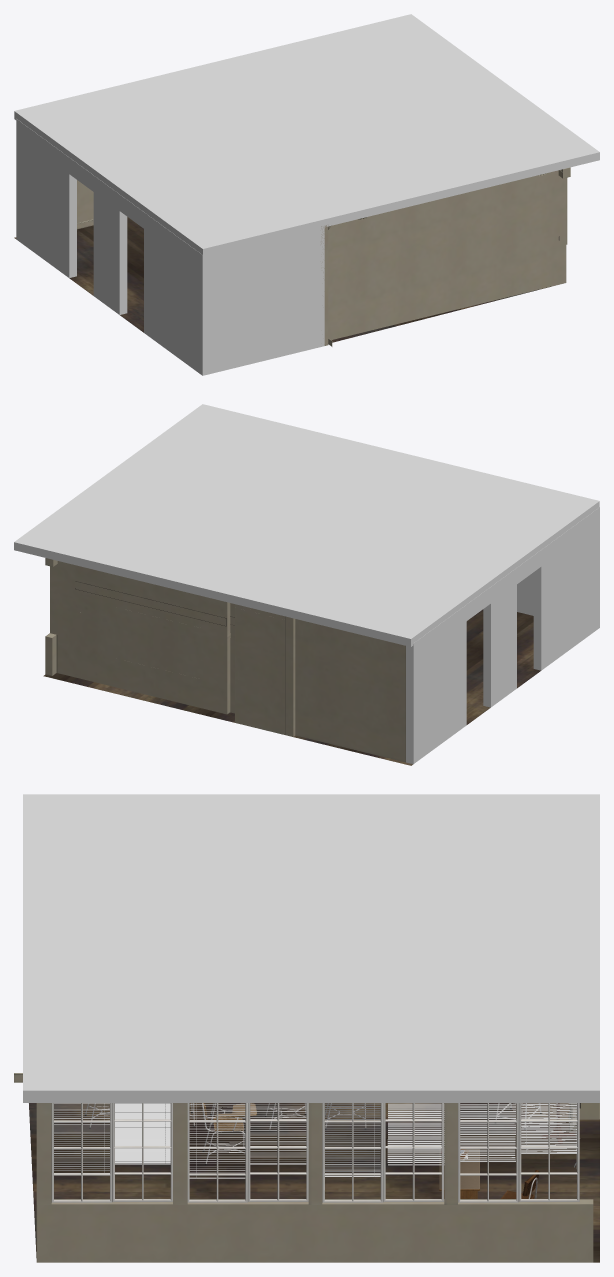
The model's file is room.glb.
The picture shows the model from 3 angles, top to bottom: view 1: azimuth 30°, elevation 25°; view 2: azimuth 150°, elevation 25°; view 3: azimuth 270°, elevation 25°; orthographic projection. The views are drawn at different scales.
Parts seen in each view (by area): view 1: ceiling__ceiling, wall.010__wall.010, wall.009__wall.009, wall.005__wall.005, sol__sol, wall__wall, wall.006__wall.006; view 2: ceiling__ceiling, wall.008__wall.008, wall.009__wall.009, wall.006__wall.006, sol__sol, wall__wall, wall.005__wall.005, wall.007__wall.007; view 3: ceiling__ceiling, sol__sol, wall.007__wall.007, Cube.017__Cube.017, Cube.005__Cube.005, Cube.008__Cube.008, Cube.002__Cube.002, Cube.021__Cube.021, Cube.020__Cube.020, Cube.011__Cube.011, Cube.014__Cube.014, wall.004__wall.004 (+12 smaller).
Part boxes in pixels (x1,y1,x2,y2): ceiling__ceiling: (14, 14, 599, 256); wall.010__wall.010: (328, 170, 566, 340); wall.009__wall.009: (16, 119, 210, 375); wall.005__wall.005: (210, 225, 324, 373); sol__sol: (14, 217, 551, 342); wall__wall: (321, 225, 328, 345); wall.006__wall.006: (77, 180, 93, 222); ceiling__ceiling: (14, 404, 599, 646); wall.008__wall.008: (50, 561, 285, 734); wall.009__wall.009: (406, 507, 599, 764); wall.006__wall.006: (295, 619, 405, 762); sol__sol: (43, 609, 540, 765); wall__wall: (285, 616, 295, 736); wall.005__wall.005: (517, 572, 533, 615); wall.007__wall.007: (45, 633, 56, 675); ceiling__ceiling: (23, 794, 599, 1102); sol__sol: (29, 1103, 599, 1262); wall.007__wall.007: (36, 1199, 593, 1262); Cube.017__Cube.017: (115, 1103, 170, 1162); Cube.005__Cube.005: (387, 1103, 444, 1162); Cube.008__Cube.008: (325, 1103, 380, 1173); Cube.002__Cube.002: (460, 1104, 515, 1159); Cube.021__Cube.021: (521, 1103, 576, 1152); Cube.020__Cube.020: (54, 1103, 109, 1170); Cube.011__Cube.011: (250, 1104, 306, 1161); Cube.014__Cube.014: (189, 1104, 245, 1172); wall.004__wall.004: (36, 1103, 51, 1204).
Bounding box in the file's own units: 10.17 × 3.11 × 8.5.
76 materials, 56 textured.
